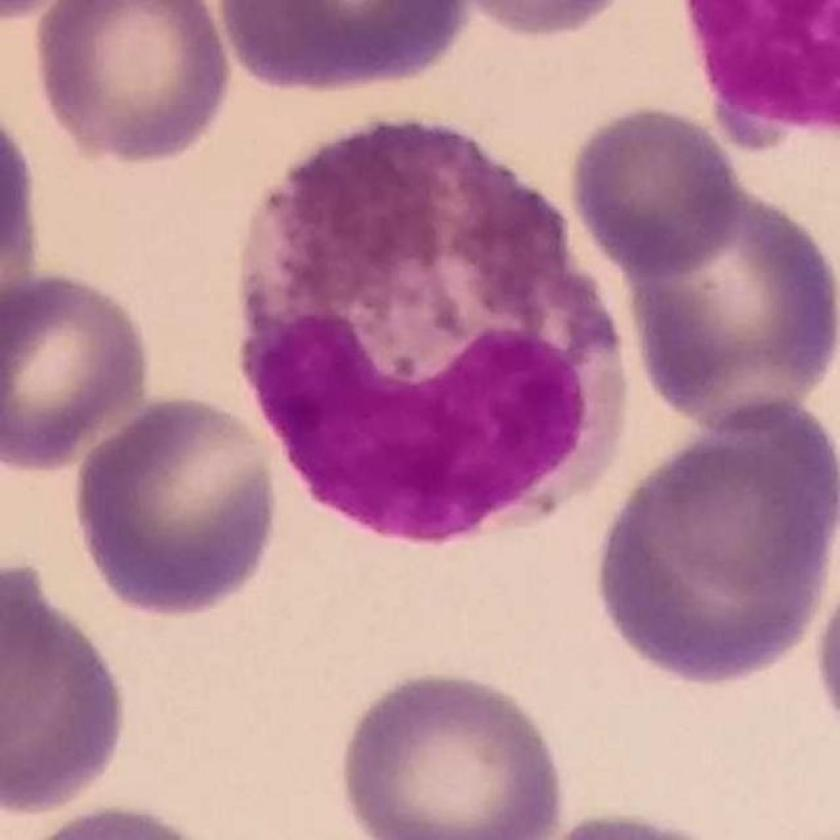eosinophil: (231, 113, 638, 556)
